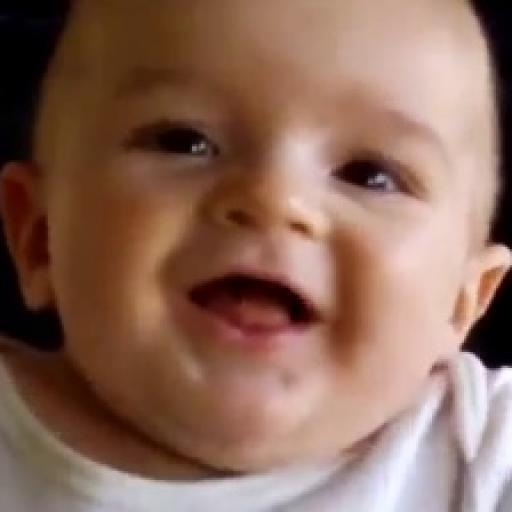Autism: (48, 0, 512, 475)
